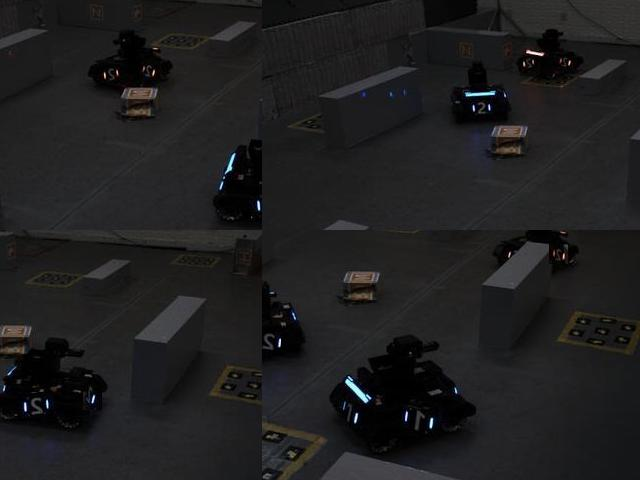armor: (403, 405, 441, 435), (20, 392, 56, 422), (338, 395, 362, 428), (466, 96, 495, 117), (262, 328, 283, 357), (83, 382, 103, 412), (549, 243, 569, 265), (100, 65, 121, 85), (141, 61, 160, 81), (250, 190, 261, 223), (556, 53, 576, 71), (522, 56, 539, 71)
